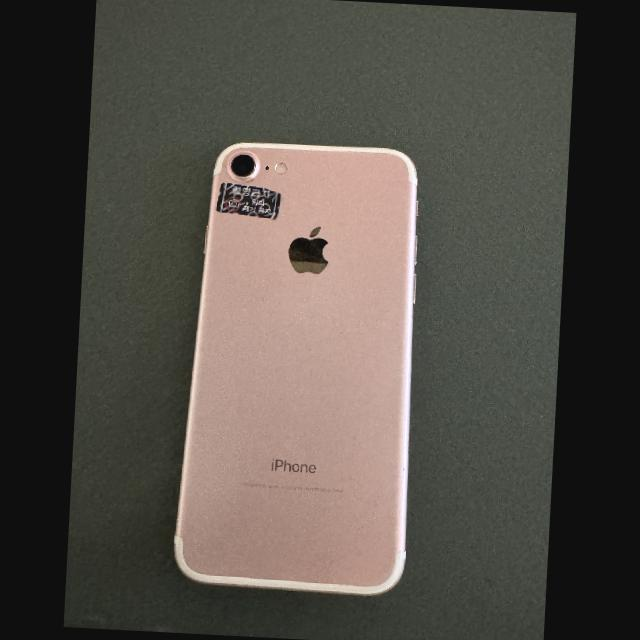lens: (230, 154, 255, 178)
phone: (175, 143, 417, 595)
sticker: (216, 184, 280, 219)
